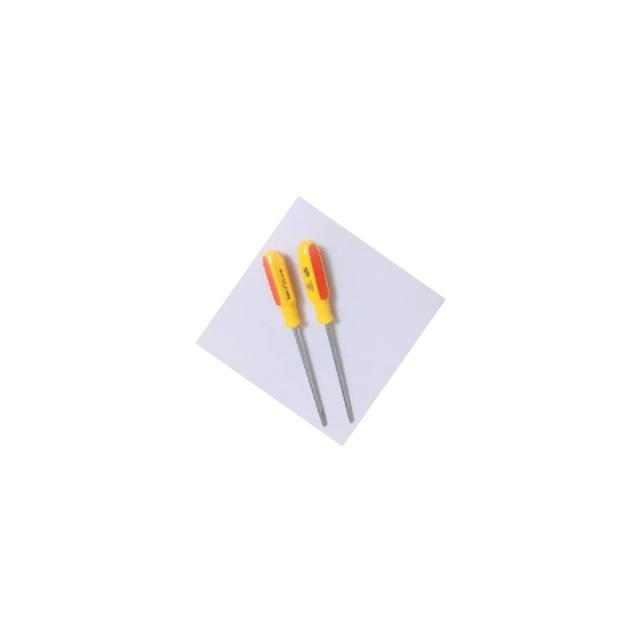screwdriver: (230, 233, 427, 425), (200, 242, 394, 429)
